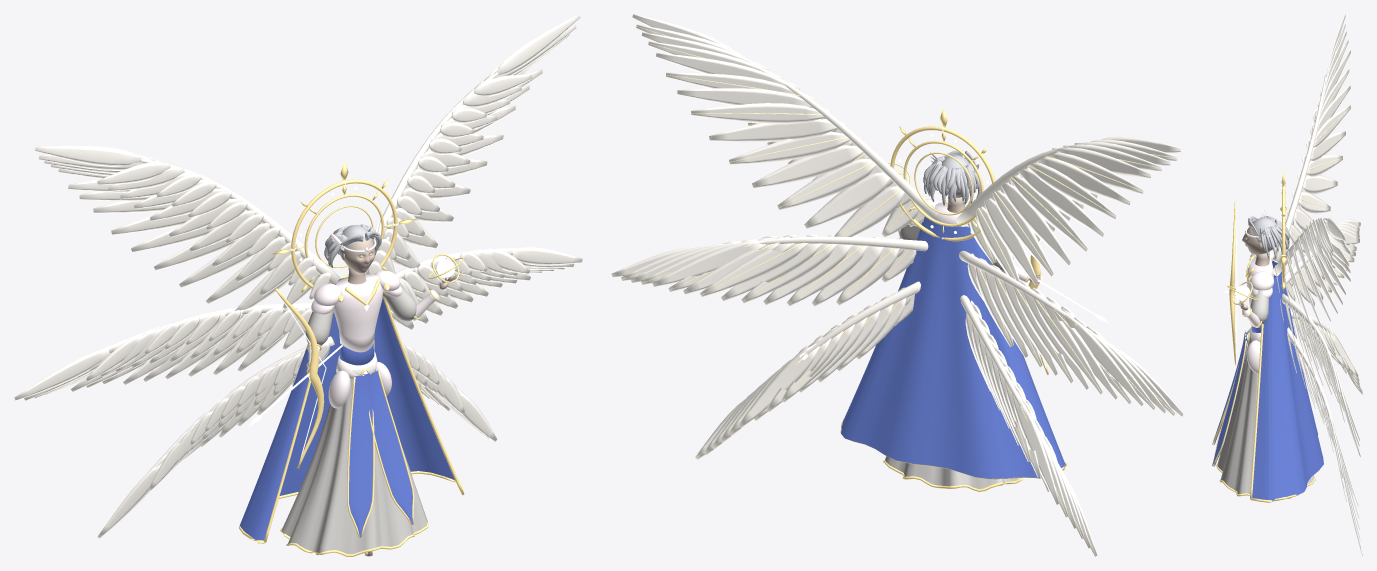
Rendered from archangel_aether.glb.
3 views of the same model, side by side, from view 1: azimuth 30°, elevation 25°; view 2: azimuth 150°, elevation 25°; view 3: azimuth 270°, elevation 25° (orthographic). The views are drawn at different scales.
Parts seen in each view (by area): view 1: ArchangelSixWingsFeathers, ArchangelStarCloak, ArchangelWhiteSkirt, ArchangelStarTabard, ArchangelArmor, ArchangelHaloGold, ArchangelCloakGoldTrim, AetherCelestialBow, ArchangelTabardGoldTrim, ArchangelSleevesSash, AetherSilverHair, ArchangelHeadSkin (+1 smaller); view 2: ArchangelSixWingsFeathers, ArchangelStarCloak, ArchangelSixWingsQuills, ArchangelHaloGold, AetherSilverHair, ArchangelWhiteSkirt; view 3: ArchangelSixWingsFeathers, ArchangelStarCloak, ArchangelWhiteSkirt, ArchangelArmor, AetherSilverHair, ArchangelStarTabard, AetherCelestialBow, ArchangelCloakGoldTrim, ArchangelSixWingsQuills, ArchangelTabardGoldTrim, ArchangelHeadSkin, ArchangelHaloGold (+2 smaller).
Part boxes in pixels (x1,y1,x2,y2): ArchangelSixWingsFeathers: (14, 14, 582, 538); ArchangelStarCloak: (239, 278, 455, 540); ArchangelWhiteSkirt: (281, 365, 427, 554); ArchangelStarTabard: (349, 370, 413, 537); ArchangelArmor: (307, 270, 440, 408); ArchangelHaloGold: (272, 161, 416, 293); ArchangelCloakGoldTrim: (239, 295, 464, 543); AetherCelestialBow: (275, 253, 463, 468); ArchangelTabardGoldTrim: (347, 371, 414, 537); ArchangelSleevesSash: (305, 285, 416, 345); AetherSilverHair: (324, 224, 381, 267); ArchangelHeadSkin: (341, 240, 374, 284); ArchangelSixWingsFeathers: (611, 14, 1183, 556); ArchangelStarCloak: (841, 216, 1064, 478); ArchangelSixWingsQuills: (622, 26, 1176, 555); ArchangelHaloGold: (890, 107, 995, 241); AetherSilverHair: (923, 149, 981, 205); ArchangelWhiteSkirt: (885, 456, 1020, 489); ArchangelSixWingsFeathers: (1273, 14, 1362, 556); ArchangelStarCloak: (1252, 258, 1323, 500); ArchangelWhiteSkirt: (1217, 330, 1314, 494); ArchangelArmor: (1242, 251, 1274, 373); AetherSilverHair: (1248, 216, 1289, 259); ArchangelStarTabard: (1212, 331, 1247, 466); AetherCelestialBow: (1227, 200, 1257, 365); ArchangelCloakGoldTrim: (1250, 324, 1303, 502); ArchangelSixWingsQuills: (1276, 25, 1362, 556); ArchangelTabardGoldTrim: (1212, 330, 1246, 466); ArchangelHeadSkin: (1242, 226, 1269, 266); ArchangelHaloGold: (1280, 171, 1287, 290).
Size of the model in its own units: 6.19 by 4.56 by 1.69.
